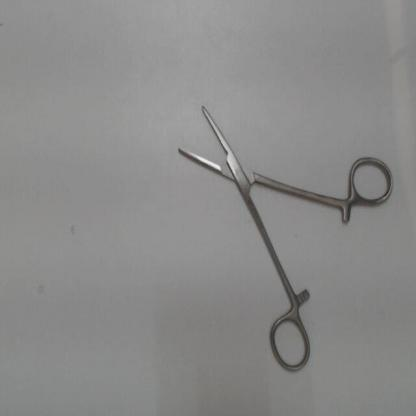Mayo Needle Holder: (168, 86, 398, 377)
